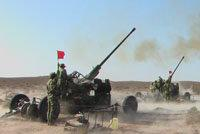MIL_SPG: (39, 28, 135, 124)
